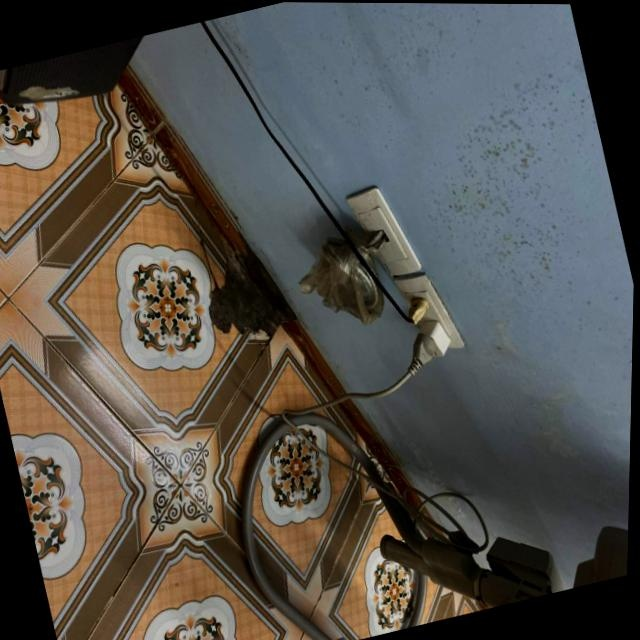outlet: (341, 179, 424, 285), (390, 265, 467, 363)
